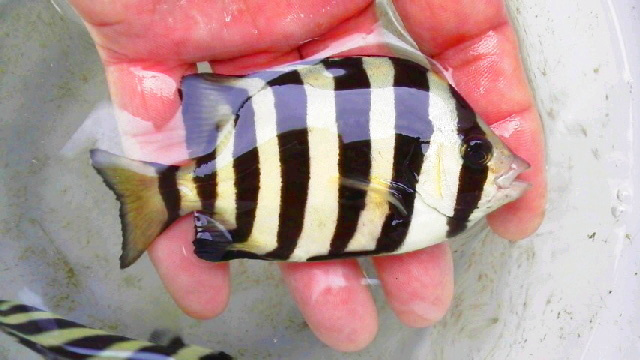azi: (126, 59, 515, 264)
